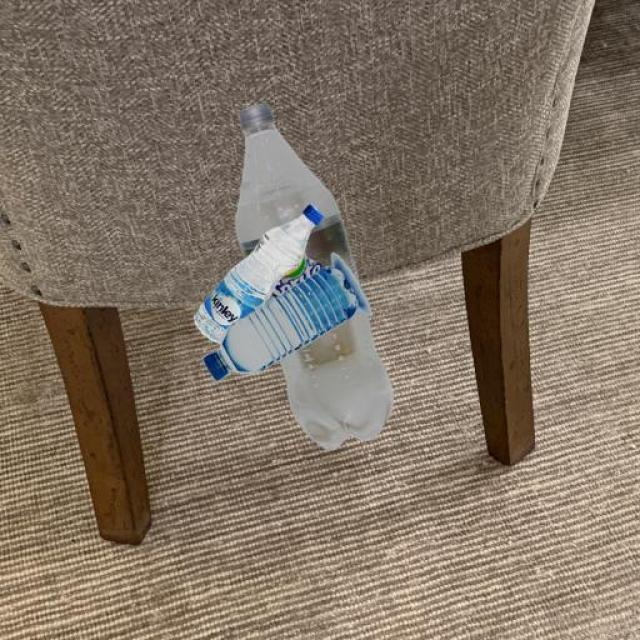bottle: (188, 97, 403, 436)
